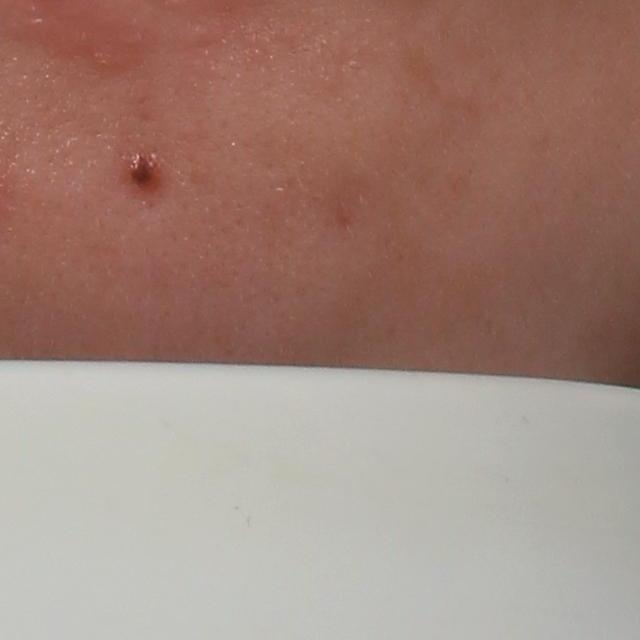nevus: (127, 154, 159, 186)
